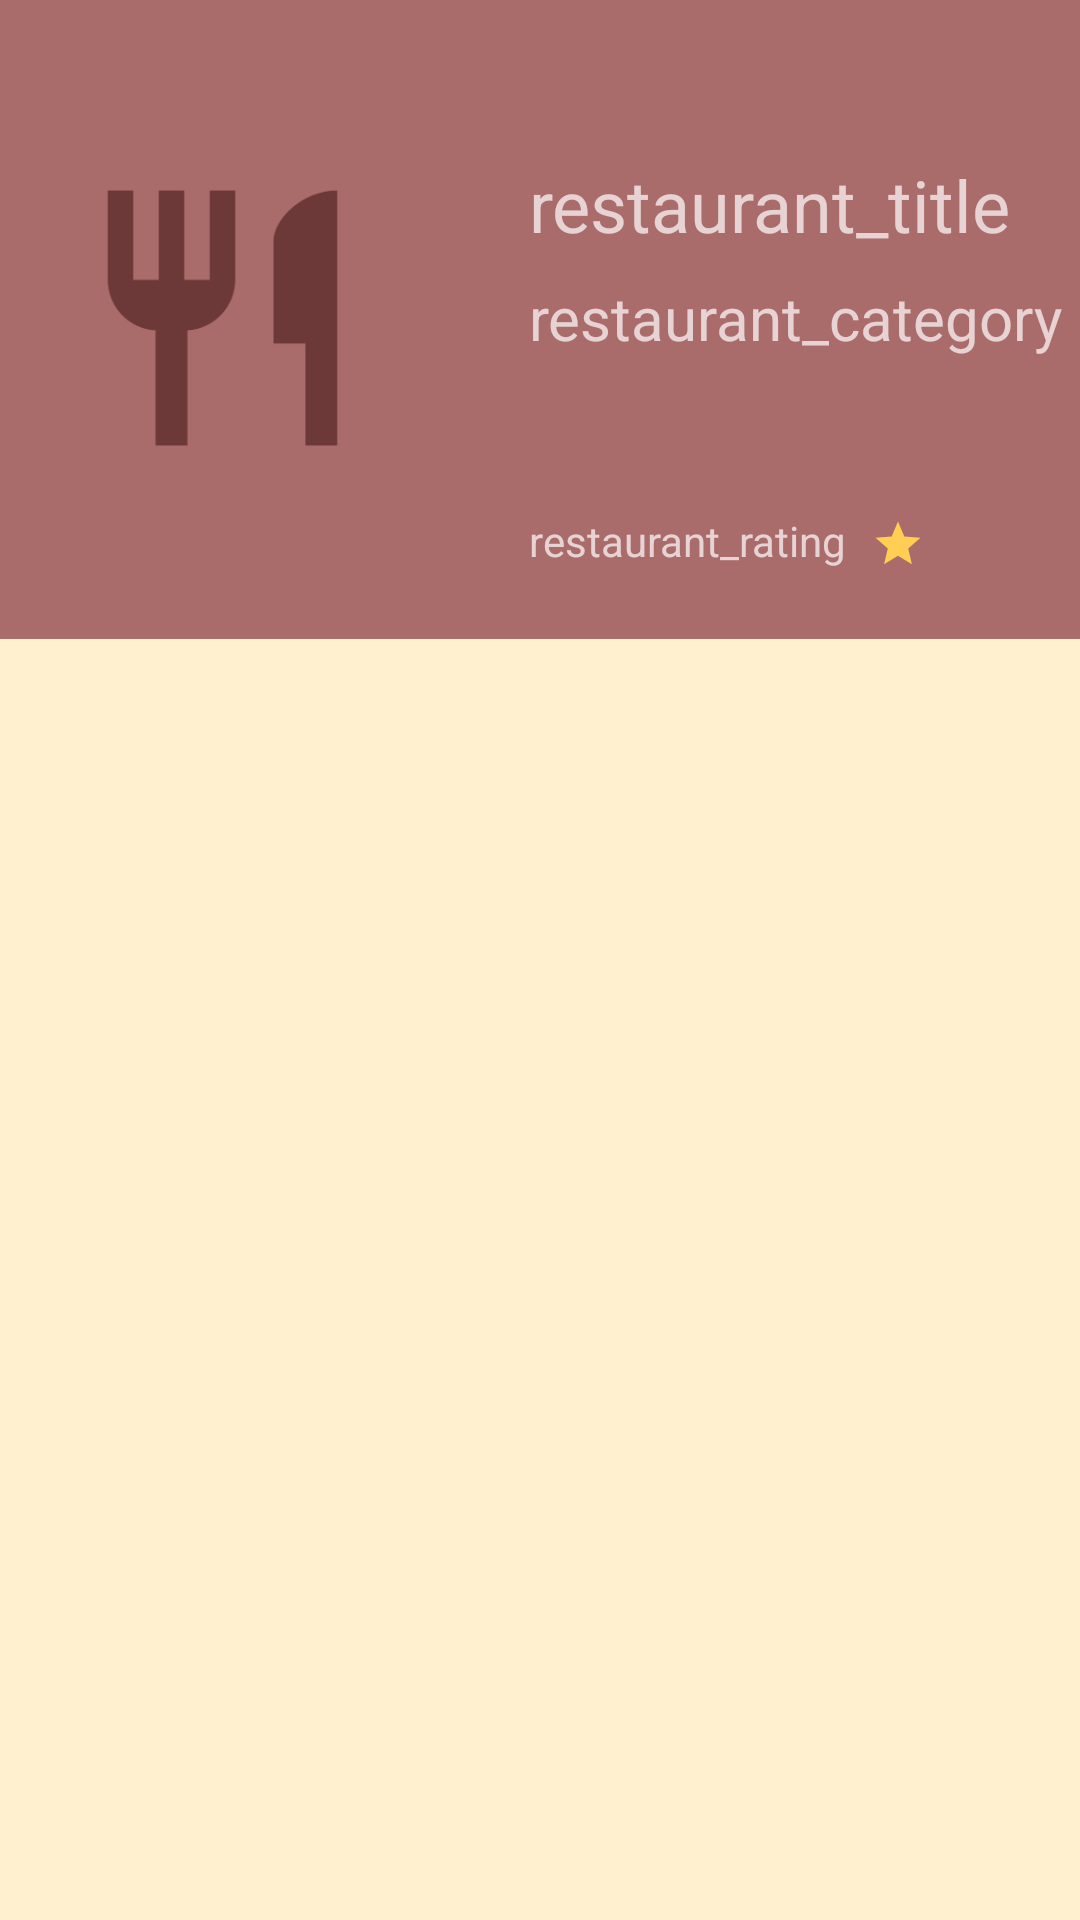

Icons on this 1080×1920 Android screen, each with its box as (left=x1, top=y1, right=x2, bottom=y2):
star: (left=876, top=522, right=920, bottom=564)
